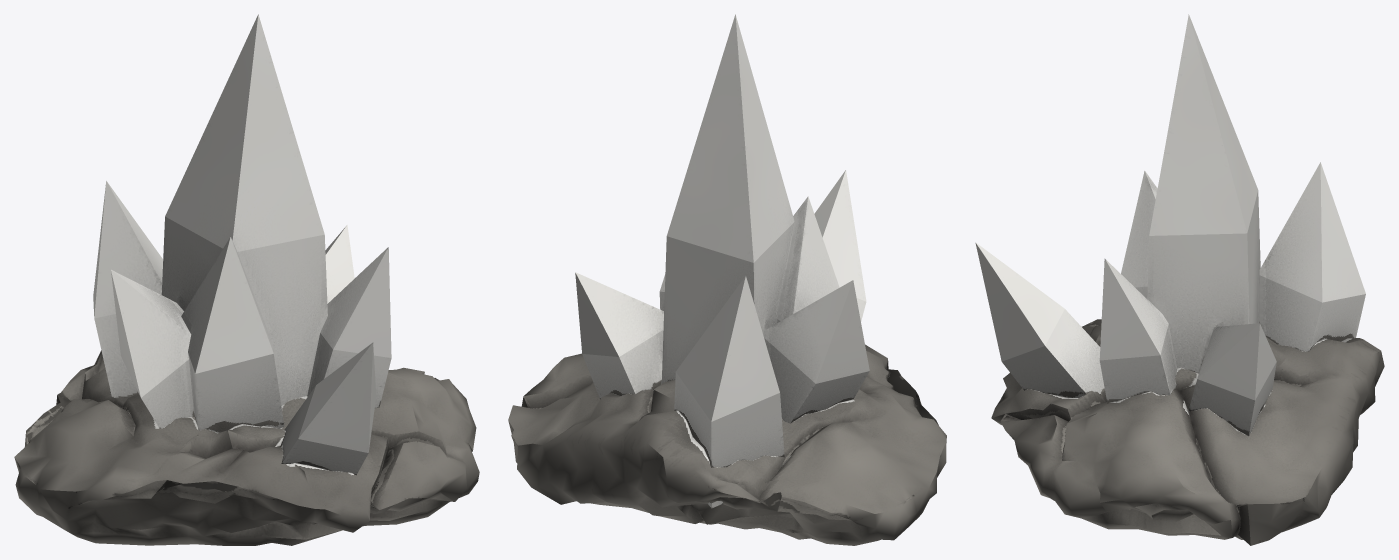
Rendered from cuarzo_blanco.fbx.
3 views of the same model, side by side, from view 1: azimuth 30°, elevation 25°; view 2: azimuth 150°, elevation 25°; view 3: azimuth 270°, elevation 25° (orthographic). The views are drawn at different scales.
Parts seen in each view (by area): view 1: cuarzo_blanco; view 2: cuarzo_blanco; view 3: cuarzo_blanco.
Part boxes in pixels (left/top/right/bottom): cuarzo_blanco: left=14, top=14, right=479, bottom=545; cuarzo_blanco: left=508, top=14, right=946, bottom=545; cuarzo_blanco: left=975, top=14, right=1384, bottom=545.
Size of the model in its own units: 2.15 by 2.43 by 1.99.
Materials: 1 (1 with a texture image).
